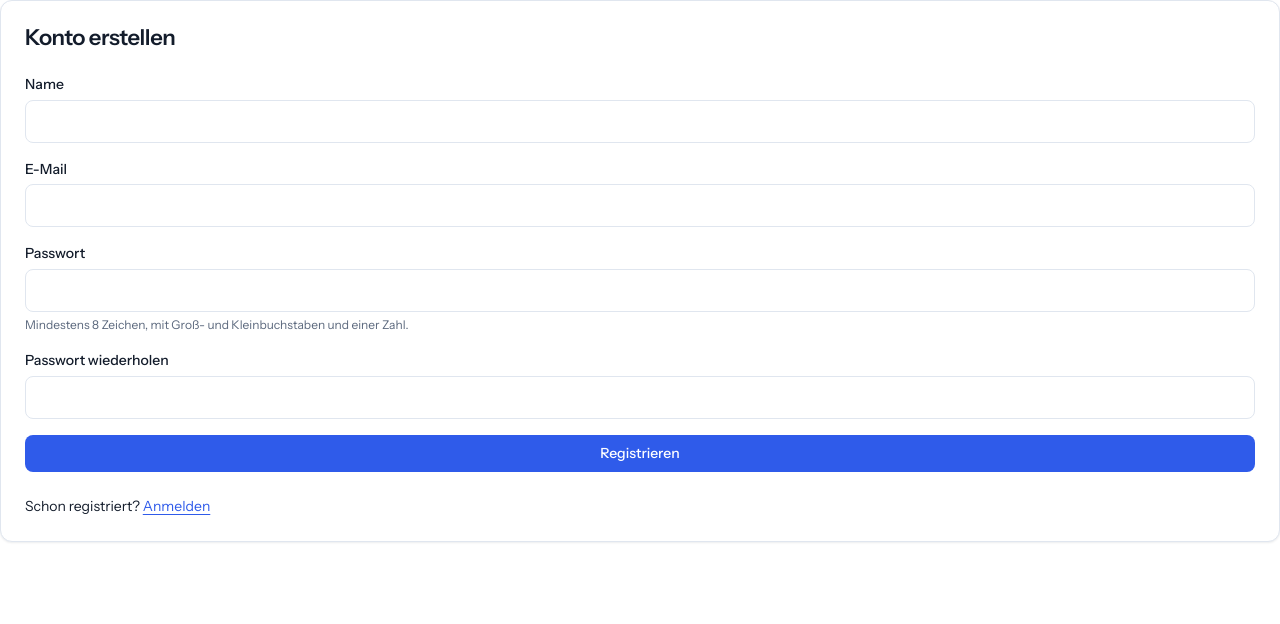
Test: SignUpView › zeigt einen bestehenden Account an
Type "Tommy" into the field with id "sign-up-name" at [640, 121], box [25, 100, 1255, 143]
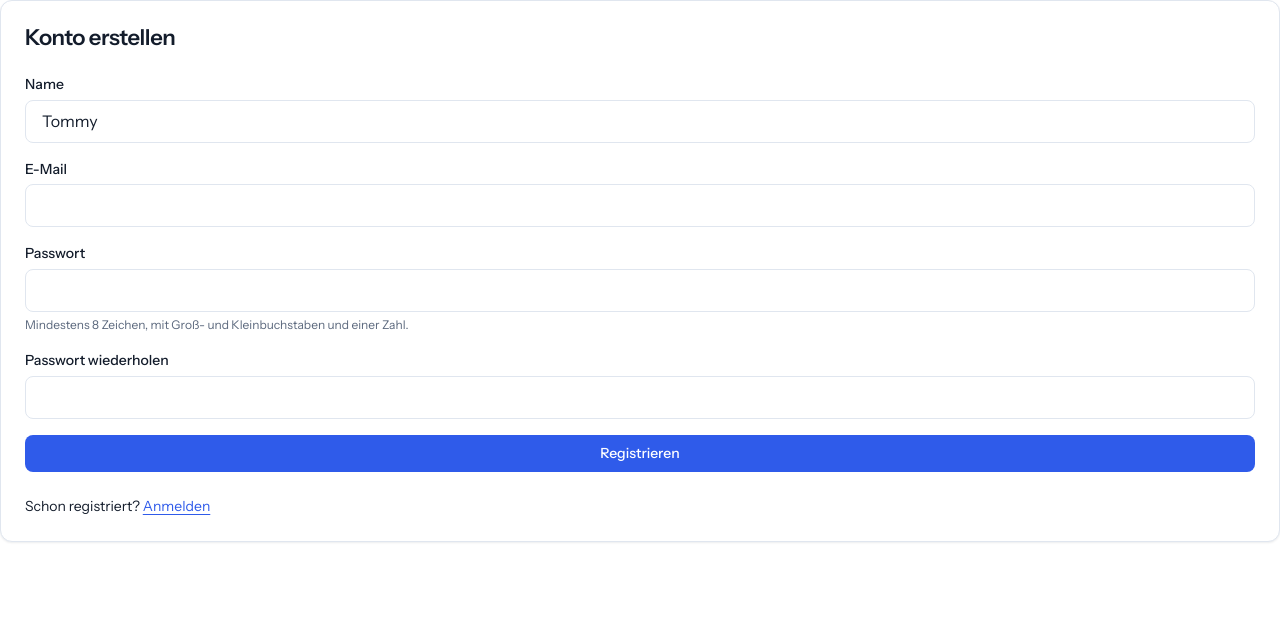
Type "t@example.com" into the field with id "sign-up-email" at [640, 206], box [25, 184, 1255, 227]
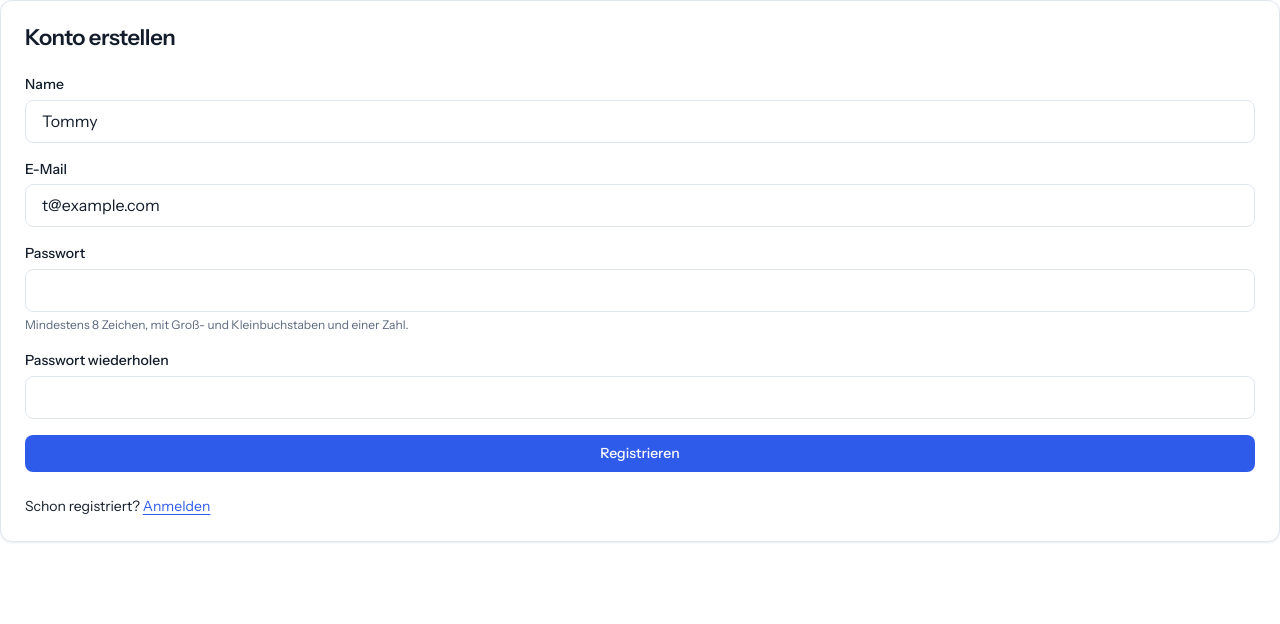
Type "Passwort1" into the password field with id "sign-up-password" at [640, 290], box [25, 269, 1255, 312]
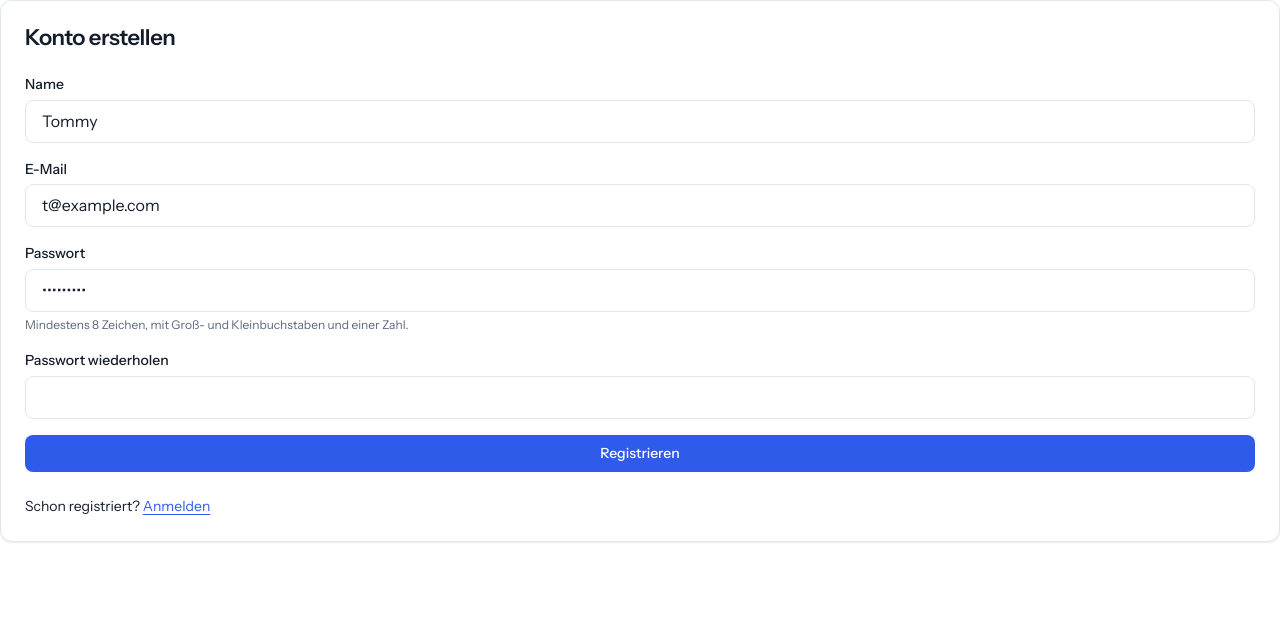
Type "Passwort1" into the password field with id "sign-up-password-confirm" at [640, 397], box [25, 376, 1255, 419]
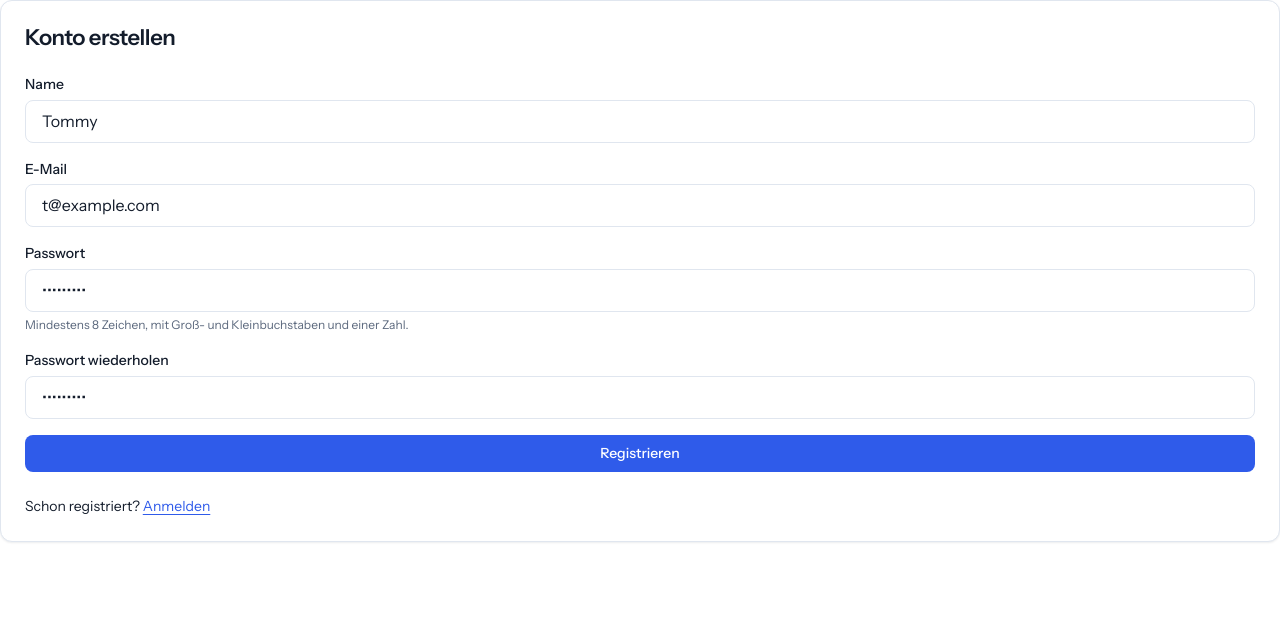
Submit the form
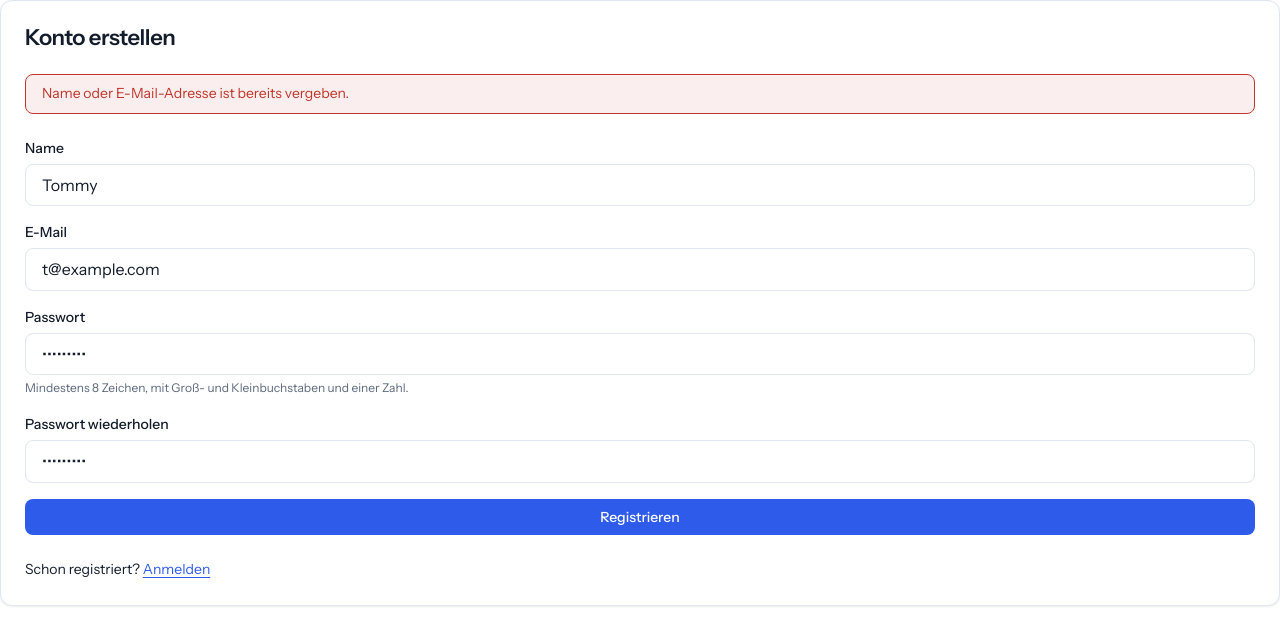
Now the text "Name oder E-Mail-Adresse ist bereits vergeben." is shown, box [25, 74, 1255, 114]
